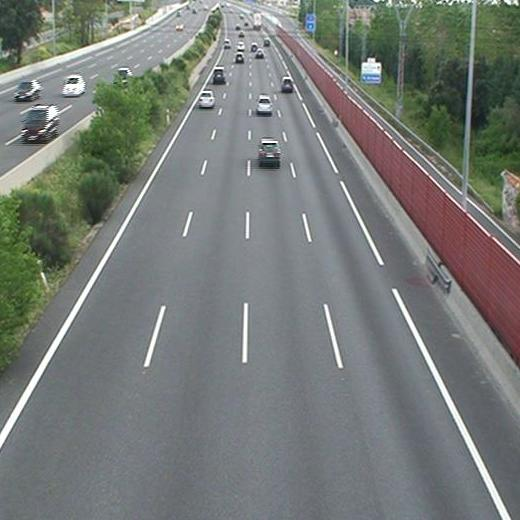car: (259, 140, 279, 163), (256, 96, 272, 113), (198, 90, 215, 106), (281, 77, 293, 92), (213, 67, 224, 81), (234, 53, 244, 63), (256, 49, 264, 58)
